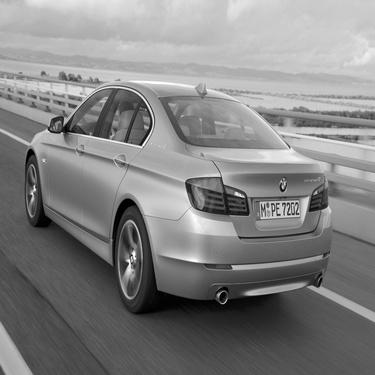car: (16, 48, 336, 321)
